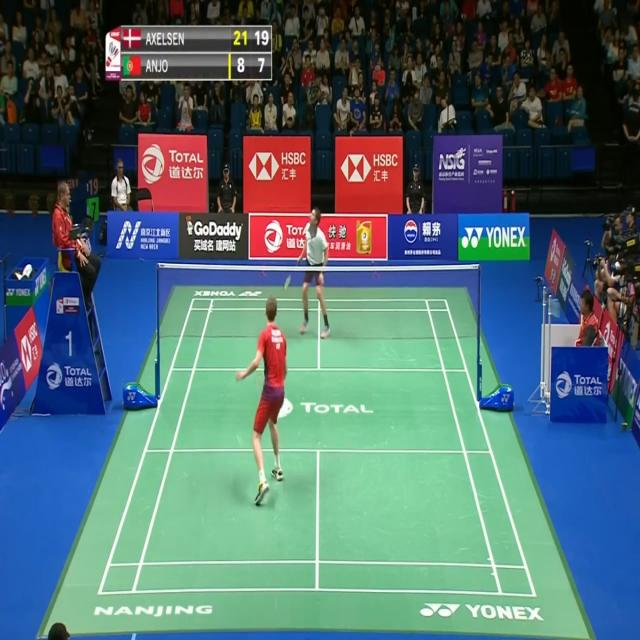Player1: (236, 297, 290, 506)
Player2: (282, 204, 332, 340)
